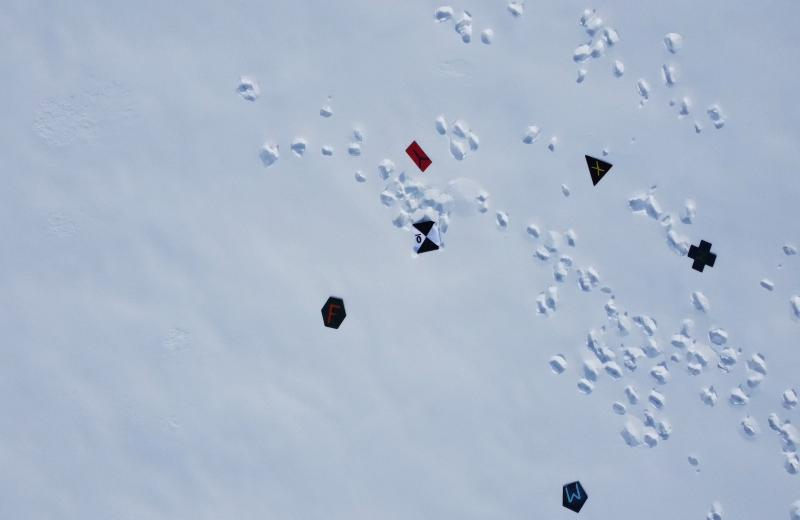Cross: (683, 241, 720, 278)
Hexagon: (320, 292, 350, 336)
Pentagon: (558, 475, 592, 518)
Rectangle: (402, 135, 438, 177)
Triangle: (578, 150, 613, 186)
